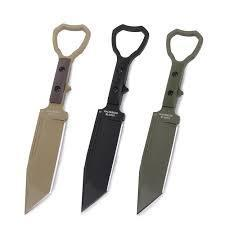Knife: (136, 25, 204, 213), (25, 24, 90, 217)
